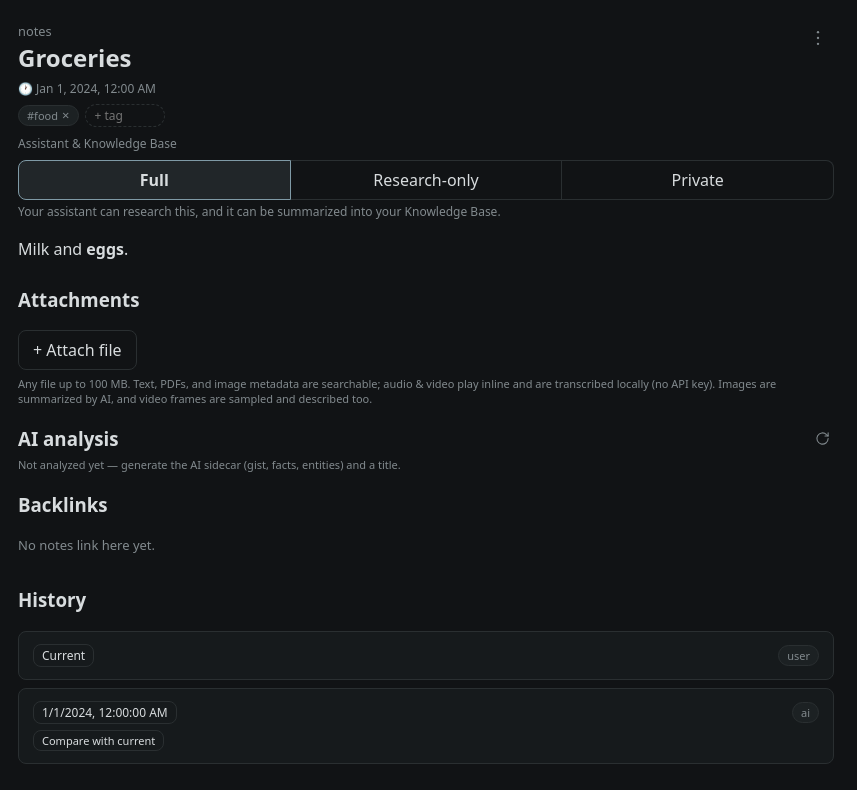
Scenario: NotePage › renames a note (slug change) and navigates to the new slug
The width and height of the screenshot is (857, 790).
Check: the heading "Groceries" is shown, box x1=18 y1=41 x2=132 y2=74
Click the button named "Page actions" at coordinates (818, 38), box x1=796 y1=16 x2=840 y2=60
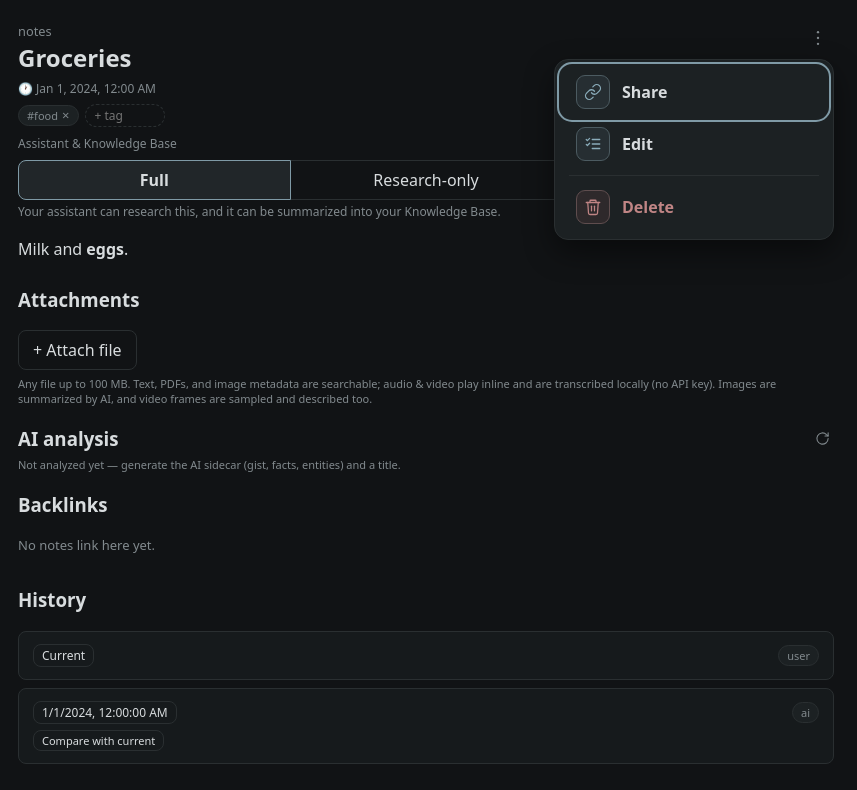
Click the menu item "Edit" at coordinates (593, 144), box x1=561 y1=118 x2=827 y2=170
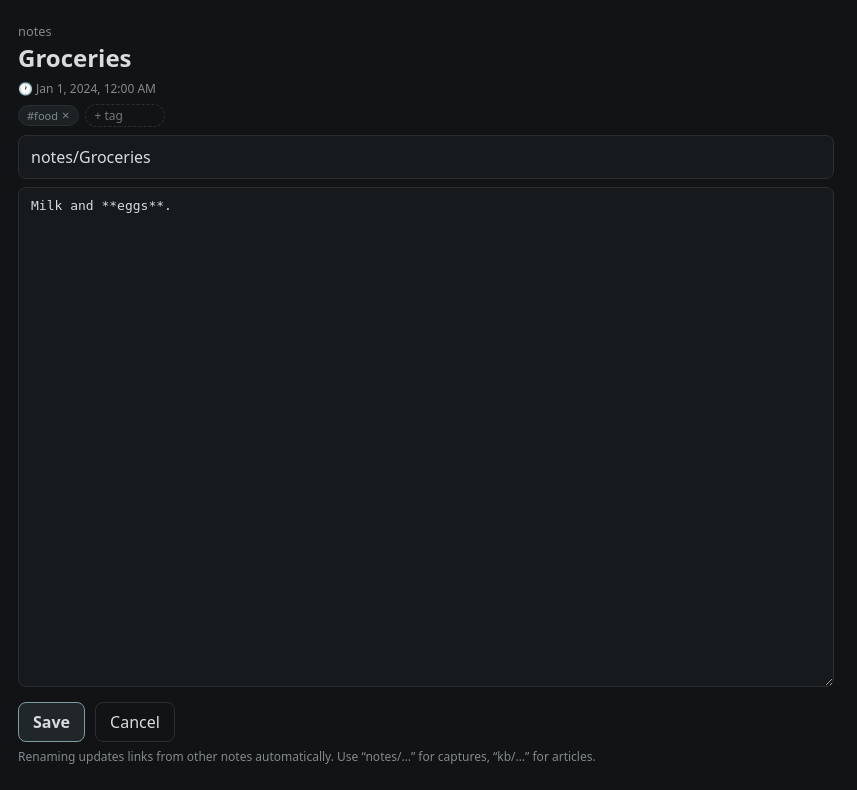
Replace the text in the field with placeholder "Title — e.g. notes/Jeff or kb/Jeff" with "kb/Jeff" at coordinates (426, 157), box x1=18 y1=135 x2=834 y2=179
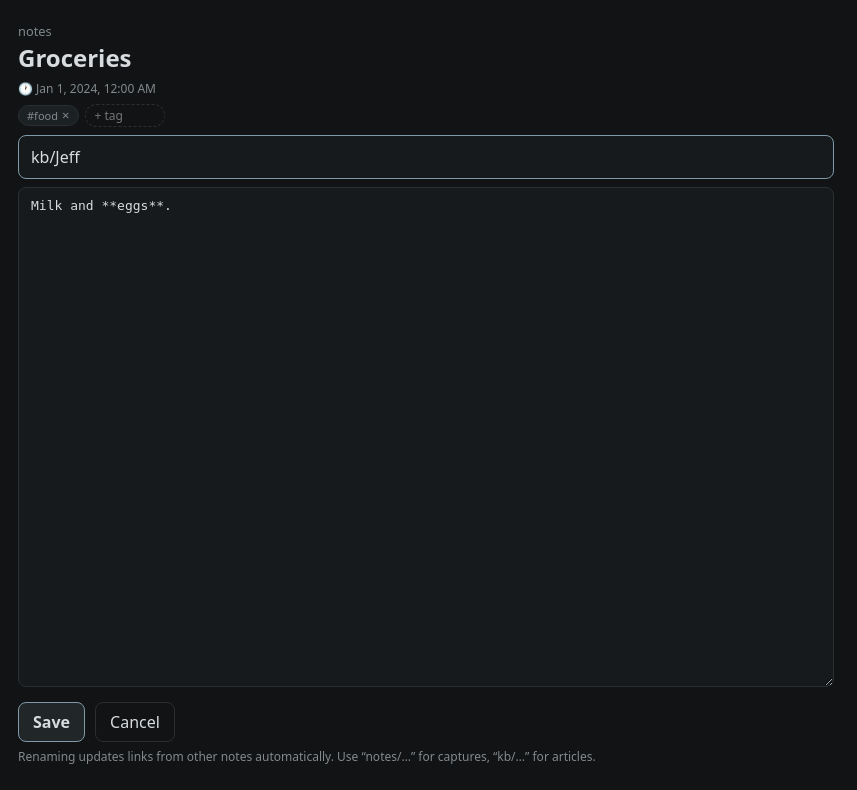
Click the button "Save" at coordinates (52, 722), box x1=18 y1=702 x2=85 y2=742
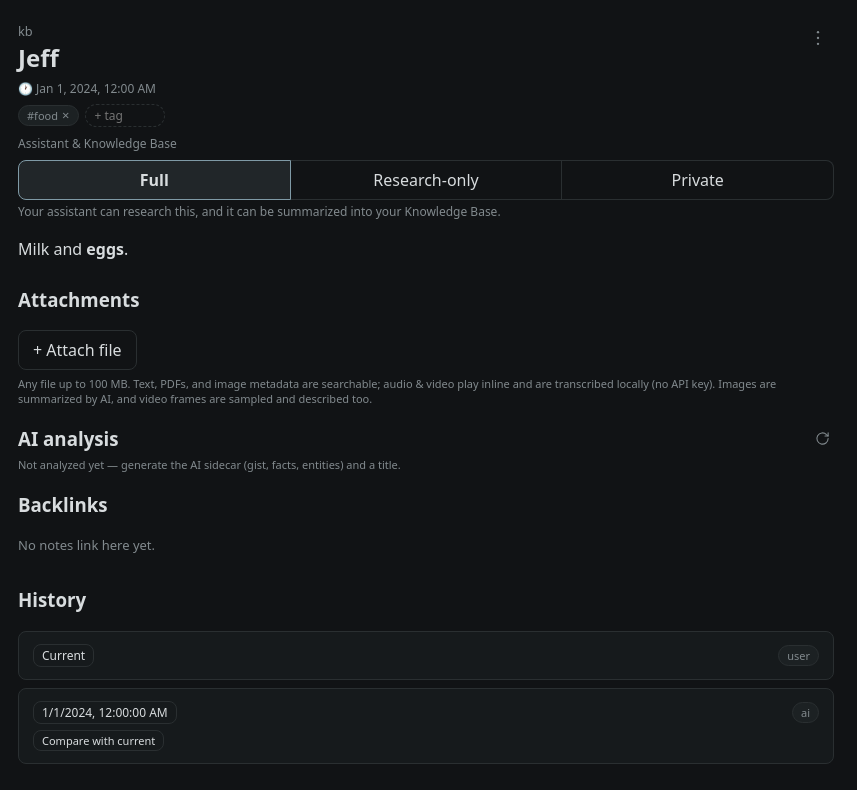
Check: the heading "Jeff" is shown, box x1=18 y1=41 x2=59 y2=74
